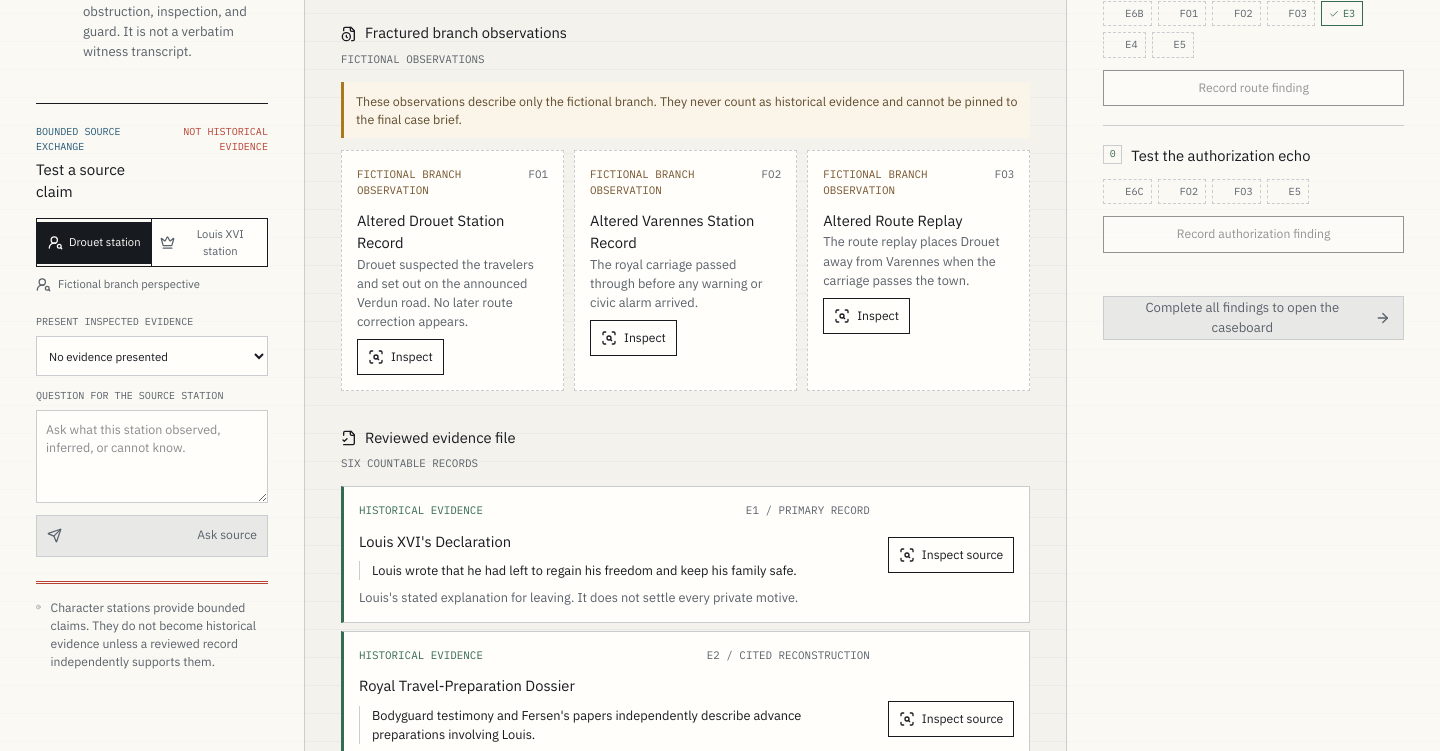
Scenario: investigation workspace › uses inspected evidence in a visibly dramatized, non-countable character turn
(page scrolled)
Select "E3 / Drouet's report" in the dropdown labelled "Present inspected evidence" at (152,356), box [36,336,268,376]
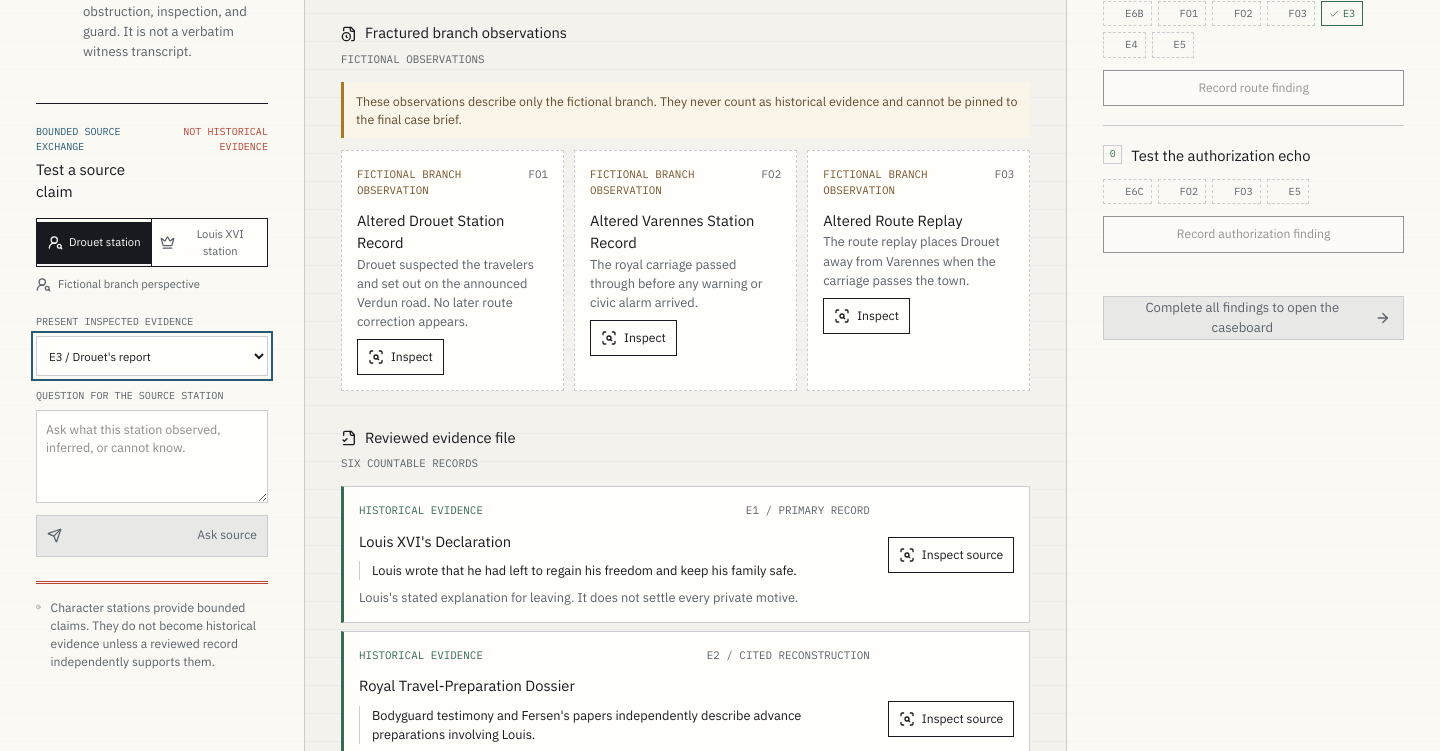
Type "What changes when I compare this report with your branch?" into the text box labelled "Question for the source station" at (152,456), box [36,410,268,502]
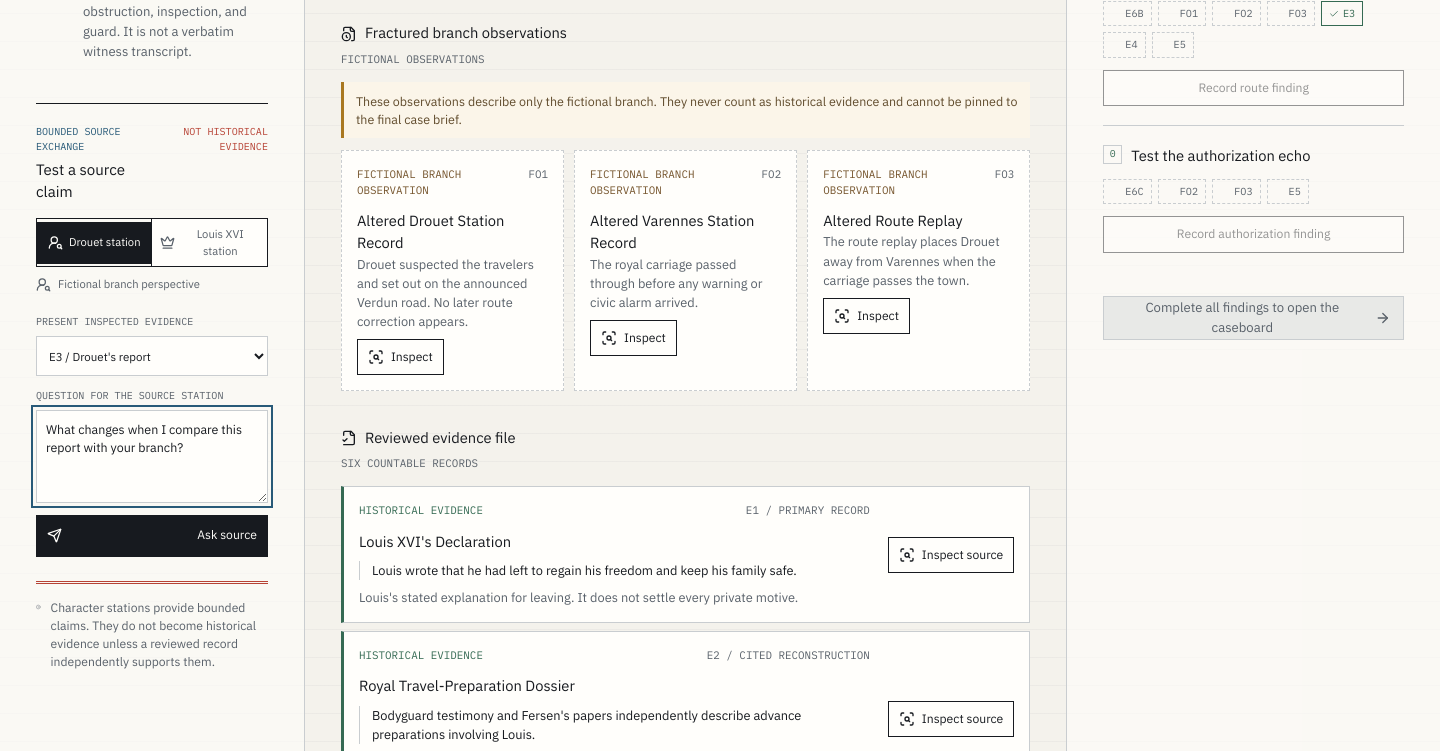
Click the button "Ask source" at (152,536), box [36,514,268,556]
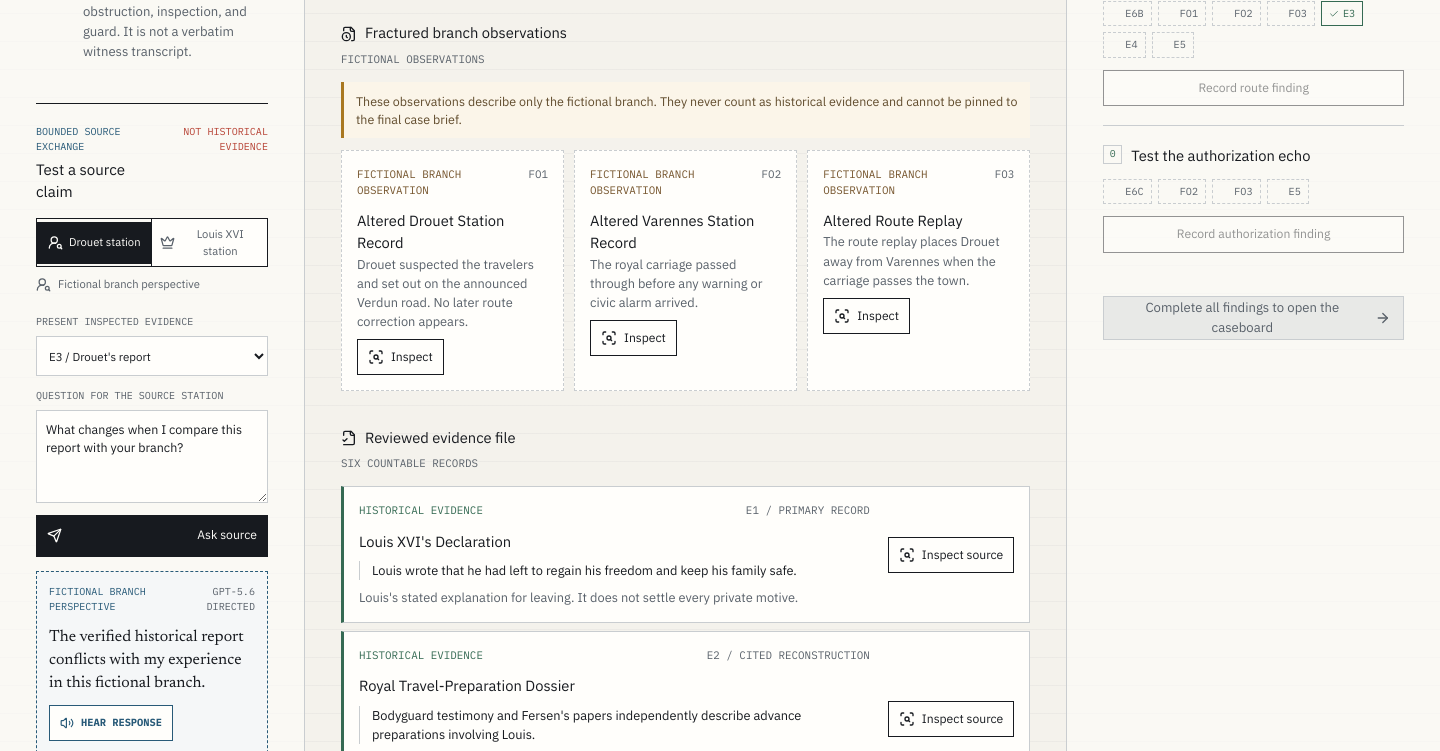
Check: the text "Fictional branch perspective" is shown, box [36,277,200,292]
Check: the text "verified historical report conflicts" is shown, box [49,629,244,691]
